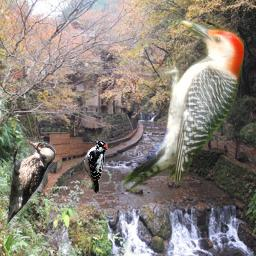Woodpecker: (116, 13, 244, 199), (7, 137, 56, 228), (83, 139, 108, 193)
